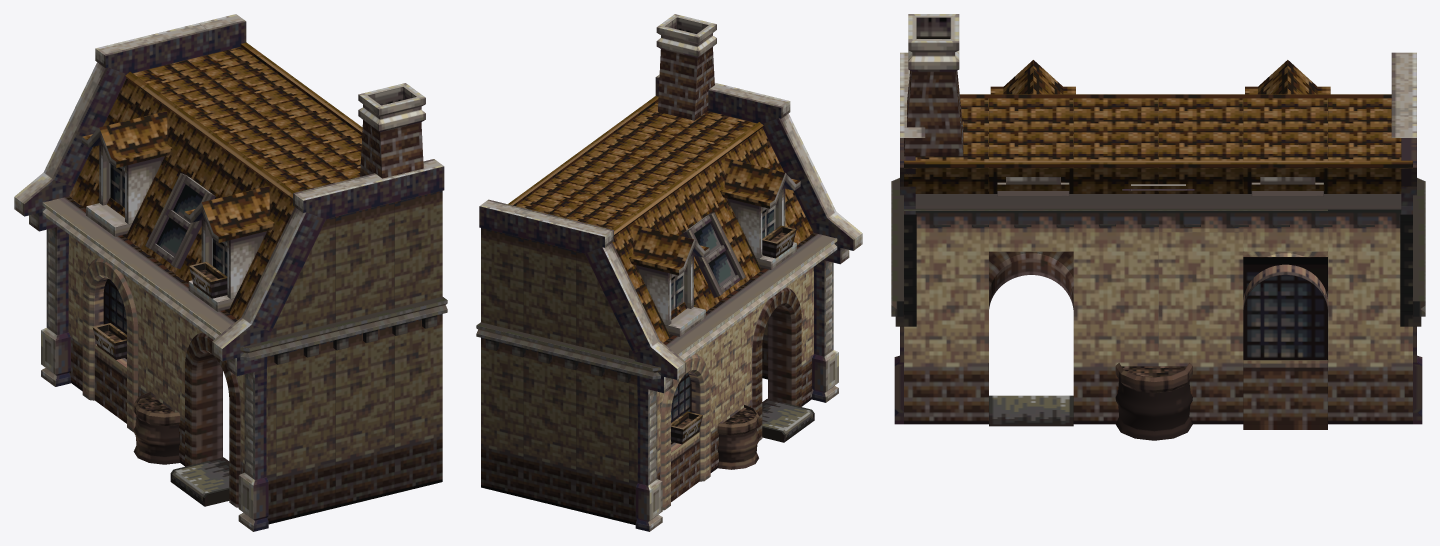
File: EnvBdgMD_City_A_Outdoor_SB.FBX
3 views of the same model, side by side, from view 1: azimuth 30°, elevation 25°; view 2: azimuth 150°, elevation 25°; view 3: azimuth 270°, elevation 25° (orthographic). The views are drawn at different scales.
Parts seen in each view (by area): view 1: EnvBdgMD_City_A_Outdoor_SB; view 2: EnvBdgMD_City_A_Outdoor_SB; view 3: EnvBdgMD_City_A_Outdoor_SB.
Part boxes in pixels (<box>): EnvBdgMD_City_A_Outdoor_SB: <box>14,14,447,531</box>; EnvBdgMD_City_A_Outdoor_SB: <box>476,14,862,531</box>; EnvBdgMD_City_A_Outdoor_SB: <box>891,14,1425,440</box>.
Bounding box in the file's own units: 376 × 630 × 625.
Materials: 1 (1 with a texture image).
